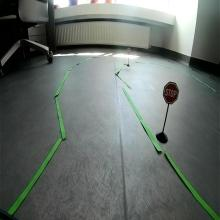stop: (163, 81, 179, 106)
